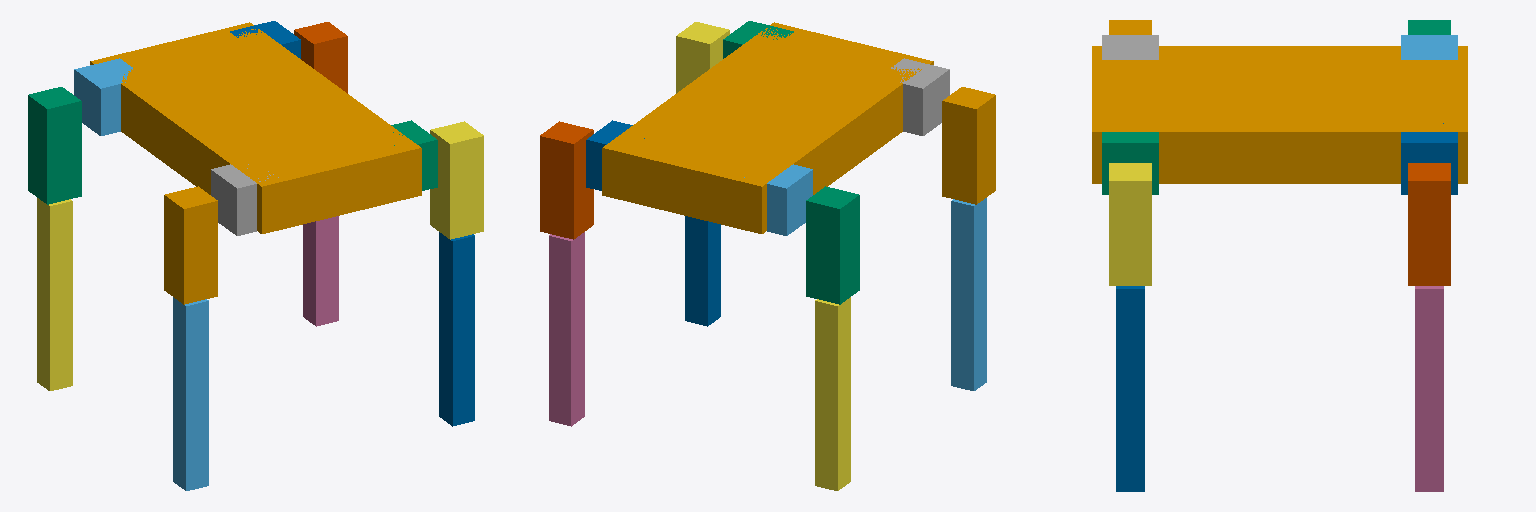
robot.urdf — bipedal:
<?xml version="1.0"?>
<robot name="bipedal">

  <!-- core -->
  <link name="core">
   <visual>
     <geometry>
       <box size="0.7 1.3 0.2" />
     </geometry>
     <origin rpy="0 0 0" xyz="0 0 0.9"/>
   </visual>
   <collision>
     <geometry>
       <box size="0.7 1.3 0.2" />
     </geometry>
     <origin rpy="0 0 0" xyz="0 0 0.9"/>
   </collision>
   <inertial>
     <mass value="30"/>
     <inertia ixx="7.208" iyy="0.333" izz="7.208"/>
   </inertial>
  </link>


  <!-- front left leg -->

  <joint name="core_left_shoulder" type="revolute">
    <axis xyz="0 1 0"/>
    <limit effort="100" velocity="100" lower="-0.785398" upper="0.785398"/>
    <parent link="core"/>
    <child link="left_shoulder"/>
    <origin xyz="-0.33911 0.5175 0.9"/>
  </joint>

  <link name="left_shoulder">
    <visual>
      <geometry>
        <box size="0.2 0.2 0.2" />
      </geometry>
     <origin rpy="0 0 0" xyz="0 0 0"/>
    </visual>
    <inertial>
      <mass value="7"/>
      <inertia ixx="0.067" iyy="0.067" izz="0.067"/>
    </inertial>
  </link>

  <joint name="left_shoulder_left_leg_top" type="revolute">
    <axis xyz="1 0 0"/>
    <limit effort="100" velocity="100" lower="-0.785398" upper="0.785398"/>
    <parent link="left_shoulder"/>
    <child link="left_leg_top"/>
    <origin xyz="-0.24389 0 -0.04505"/>
  </joint>

  <link name="left_leg_top">
    <visual>
      <geometry>
        <box size="0.15 0.15 0.4" />
      </geometry>
     <origin rpy="0 0 0" xyz="0 0 -0.1"/>
    </visual>
    <inertial>
      <mass value="7"/>
      <inertia ixx="0.152" iyy="0.267" izz="0.152"/>
    </inertial>
  </link>

  <joint name="left_leg_top_left_leg_bottom" type="revolute">
    <axis xyz="1 0 0"/>
    <limit effort="100" velocity="100" lower="-0.785398" upper="0.785398"/>
    <parent link="left_leg_top"/>
    <child link="left_leg_bottom"/>
    <origin xyz="0 0 -0.45983"/>
  </joint>

  <link name="left_leg_bottom">
    <visual>
      <geometry>
        <box size="0.1 0.1 0.775" />
      </geometry>
     <origin rpy="0 0 0" xyz="0 0 -0.25"/>
    </visual>
    <collision>
      <contact_coefficient mu="10"  resitution="0"  k_p="0"  k_d="0" />
      <geometry>
        <box size="0.1 0.1 0.775" />
      </geometry>
      <origin rpy="0 0 0" xyz="0 0 -0.25"/>
    </collision>
    <inertial>
      <mass value="3"/>
      <inertia ixx="0.509" iyy="1.001" izz="0.509"/>
    </inertial>
  </link>



  <!-- front right leg -->

  <joint name="core_right_shoulder" type="revolute">
    <axis xyz="0 1 0"/>
    <limit effort="100" velocity="100" lower="-0.785398" upper="0.785398"/>
    <parent link="core"/>
    <child link="right_shoulder"/>
    <origin xyz="0.33911 0.5175 0.9"/>
  </joint>

  <link name="right_shoulder">
    <visual>
      <geometry>
        <box size="0.2 0.2 0.2" />
      </geometry>
     <origin rpy="0 0 0" xyz="0 0 0"/>
    </visual>
    <inertial>
      <mass value="7"/>
      <inertia ixx="0.067" iyy="0.067" izz="0.067"/>
    </inertial>
  </link>

  <joint name="right_shoulder_right_leg_top" type="revolute">
    <axis xyz="1 0 0"/>
    <limit effort="100" velocity="100" lower="-0.785398" upper="0.785398"/>
    <parent link="right_shoulder"/>
    <child link="right_leg_top"/>
    <origin xyz="0.24389 0 -0.04505"/>
  </joint>

  <link name="right_leg_top">
    <visual>
      <geometry>
        <box size="0.15 0.15 0.4" />
      </geometry>
     <origin rpy="0 0 0" xyz="0 0 -0.1"/>
    </visual>
    <inertial>
      <mass value="7"/>
      <inertia ixx="0.152" iyy="0.267" izz="0.152"/>
    </inertial>
  </link>

  <joint name="right_leg_top_right_leg_bottom" type="revolute">
    <axis xyz="1 0 0"/>
    <limit effort="100" velocity="100" lower="-0.785398" upper="0.785398"/>
    <parent link="right_leg_top"/>
    <child link="right_leg_bottom"/>
    <origin xyz="0 0 -0.45983"/>
  </joint>

  <link name="right_leg_bottom">
    <visual>
      <geometry>
        <box size="0.1 0.1 0.775" />
      </geometry>
     <origin rpy="0 0 0" xyz="0 0 -0.25"/>
    </visual>
    <collision>
      <contact_coefficient mu="10"  resitution="0"  k_p="0"  k_d="0" />
      <geometry>
        <box size="0.1 0.1 0.775" />
      </geometry>
      <origin rpy="0 0 0" xyz="0 0 -0.25"/>
    </collision>
    <inertial>
      <mass value="3"/>
      <inertia ixx="0.509" iyy="1.001" izz="0.509"/>
    </inertial>
  </link>



  <!-- back left leg -->

  <joint name="core_back_left_shoulder" type="revolute">
    <axis xyz="0 1 0"/>
    <limit effort="100" velocity="100" lower="-0.785398" upper="0.785398"/>
    <parent link="core"/>
    <child link="back_left_shoulder"/>
    <origin xyz="-0.33911 -0.5175 0.9"/>
  </joint>

  <link name="back_left_shoulder">
    <visual>
      <geometry>
        <box size="0.2 0.2 0.2" />
      </geometry>
     <origin rpy="0 0 0" xyz="0 0 0"/>
    </visual>
    <inertial>
      <mass value="7"/>
      <inertia ixx="0.067" iyy="0.067" izz="0.067"/>
    </inertial>
  </link>

  <joint name="back_left_shoulder_back_right_leg_top" type="revolute">
    <axis xyz="1 0 0"/>
    <limit effort="100" velocity="100" lower="-0.785398" upper="0.785398"/>
    <parent link="back_left_shoulder"/>
    <child link="back_left_leg_top"/>
    <origin xyz="-0.24389 0 -0.04505"/>
  </joint>

  <link name="back_left_leg_top">
    <visual>
      <geometry>
        <box size="0.15 0.15 0.4" />
      </geometry>
     <origin rpy="0 0 0" xyz="0 0 -0.1"/>
    </visual>
    <inertial>
      <mass value="7"/>
      <inertia ixx="0.152" iyy="0.267" izz="0.152"/>
    </inertial>
  </link>

  <joint name="back_left_leg_top_back_left_leg_bottom" type="revolute">
    <axis xyz="1 0 0"/>
    <limit effort="100" velocity="100" lower="-0.785398" upper="0.785398"/>
    <parent link="back_left_leg_top"/>
    <child link="back_left_leg_bottom"/>
    <origin xyz="0 0 -0.45983"/>
  </joint>

  <link name="back_left_leg_bottom">
    <visual>
      <geometry>
        <box size="0.1 0.1 0.775" />
      </geometry>
     <origin rpy="0 0 0" xyz="0 0 -0.25"/>
    </visual>
    <collision>
      <contact_coefficient mu="10"  resitution="0"  k_p="0"  k_d="0" />
      <geometry>
        <box size="0.1 0.1 0.775" />
      </geometry>
      <origin rpy="0 0 0" xyz="0 0 -0.25"/>
    </collision>
    <inertial>
      <mass value="3"/>
      <inertia ixx="0.509" iyy="1.001" izz="0.509"/>
    </inertial>
  </link>



  <!-- back right leg -->

  <joint name="core_back_right_shoulder" type="revolute">
    <axis xyz="0 1 0"/>
    <limit effort="100" velocity="100" lower="-0.785398" upper="0.785398"/>
    <parent link="core"/>
    <child link="back_right_shoulder"/>
    <origin xyz="0.33911 -0.5175 0.9"/>
  </joint>

  <link name="back_right_shoulder">
    <visual>
      <geometry>
        <box size="0.2 0.2 0.2" />
      </geometry>
     <origin rpy="0 0 0" xyz="0 0 0 "/>
    </visual>
    <inertial>
      <mass value="7"/>
      <inertia ixx="0.067" iyy="0.067" izz="0.067"/>
    </inertial>
  </link>

  <joint name="back_right_shoulder_back_right_leg_top" type="revolute">
    <axis xyz="1 0 0"/>
    <limit effort="100" velocity="100" lower="-0.785398" upper="0.785398"/>
    <parent link="back_right_shoulder"/>
    <child link="back_right_leg_top"/>
    <origin xyz="0.24389 0 -0.04505"/>
  </joint>

  <link name="back_right_leg_top">
    <visual>
      <geometry>
        <box size="0.15 0.15 0.4" />
      </geometry>
     <origin rpy="0 0 0" xyz="0 0 -0.1"/>
    </visual>
    <inertial>
      <mass value="7"/>
      <inertia ixx="0.152" iyy="0.267" izz="0.152"/>
    </inertial>
  </link>

  <joint name="back_right_leg_top_back_right_leg_bottom" type="revolute">
    <axis xyz="1 0 0"/>
    <limit effort="100" velocity="100" lower="-0.785398" upper="0.785398"/>
    <parent link="back_right_leg_top"/>
    <child link="back_right_leg_bottom"/>
    <origin xyz="0 0 -0.45983"/>
  </joint>

  <link name="back_right_leg_bottom">
    <visual>
      <geometry>
        <box size="0.1 0.1 0.775" />
      </geometry>
     <origin rpy="0 0 0" xyz="0 0 -0.25"/>
    </visual>
    <collision>
      <contact_coefficient mu="10"  resitution="0"  k_p="0"  k_d="0" />
      <geometry>
        <box size="0.1 0.1 0.775" />
      </geometry>
     <origin rpy="0 0 0" xyz="0 0 -0.25"/>
    </collision>
    <inertial>
      <mass value="3"/>
      <inertia ixx="0.509" iyy="1.001" izz="0.509"/>
    </inertial>
  </link>

</robot>

--- Render facts (derived) ---
Views: 3 orthographic renders of the robot side by side, from view 1: azimuth 30°, elevation 25°; view 2: azimuth 150°, elevation 25°; view 3: azimuth 270°, elevation 25°.
Model bipedal with 13 links and 12 joints (12 revolute), rooted at core, posed all joints at 0.
Links seen in each view (by area): view 1: core, left_leg_bottom, back_left_leg_bottom, back_right_leg_bottom, back_left_leg_top, left_leg_top, back_right_leg_top, right_leg_bottom, left_shoulder, back_left_shoulder, right_leg_top, back_right_shoulder (+1 smaller); view 2: core, back_left_leg_bottom, left_leg_bottom, right_leg_bottom, left_leg_top, back_left_leg_top, right_leg_top, back_right_leg_bottom, back_left_shoulder, left_shoulder, back_right_leg_top, right_shoulder (+1 smaller); view 3: core, right_leg_bottom, back_right_leg_bottom, right_leg_top, back_right_leg_top, right_shoulder, back_right_shoulder, left_shoulder, back_left_shoulder, left_leg_top, back_left_leg_top.
Link boxes in pixels (x1,y1,x2,y2): core: (90, 22, 421, 233); left_leg_bottom: (37, 198, 72, 390); back_left_leg_bottom: (173, 297, 208, 490); back_right_leg_bottom: (439, 232, 474, 426); back_left_leg_top: (164, 186, 217, 304); left_leg_top: (28, 87, 81, 204); back_right_leg_top: (430, 121, 483, 239); right_leg_bottom: (303, 216, 338, 326); left_shoulder: (74, 58, 132, 135); back_left_shoulder: (211, 164, 278, 235); right_leg_top: (294, 22, 347, 93); back_right_shoulder: (391, 120, 437, 190); core: (602, 22, 933, 233); back_left_leg_bottom: (951, 198, 986, 390); left_leg_bottom: (815, 297, 850, 490); right_leg_bottom: (549, 232, 584, 426); left_leg_top: (806, 186, 859, 304); back_left_leg_top: (942, 87, 995, 204); right_leg_top: (540, 121, 593, 239); back_right_leg_bottom: (685, 216, 720, 326); back_left_shoulder: (891, 58, 949, 135); left_shoulder: (744, 164, 812, 235); back_right_leg_top: (676, 22, 729, 93); right_shoulder: (586, 120, 644, 190); core: (1092, 46, 1467, 183); right_leg_bottom: (1415, 286, 1443, 491); back_right_leg_bottom: (1116, 286, 1144, 491); right_leg_top: (1408, 163, 1450, 285); back_right_leg_top: (1109, 163, 1151, 285); right_shoulder: (1401, 123, 1457, 194); back_right_shoulder: (1102, 132, 1158, 194); left_shoulder: (1401, 35, 1457, 59); back_left_shoulder: (1102, 35, 1158, 59); left_leg_top: (1408, 20, 1450, 34); back_left_leg_top: (1109, 20, 1151, 34).
Size in the robot's own frame: 1.32 by 1.3 by 1.24 metres.
Geometry: primitives only (box / cylinder / sphere), no mesh files.